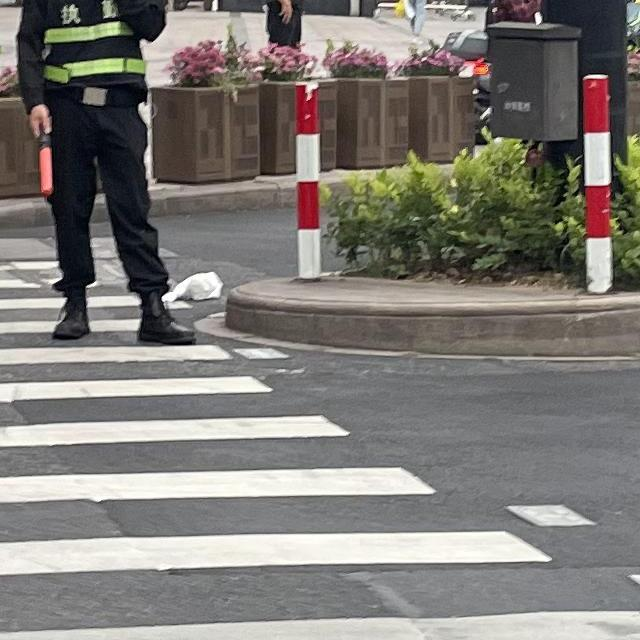curb: (226, 276, 639, 356), (151, 175, 295, 217), (0, 197, 51, 229), (320, 171, 355, 190), (91, 192, 106, 221)
